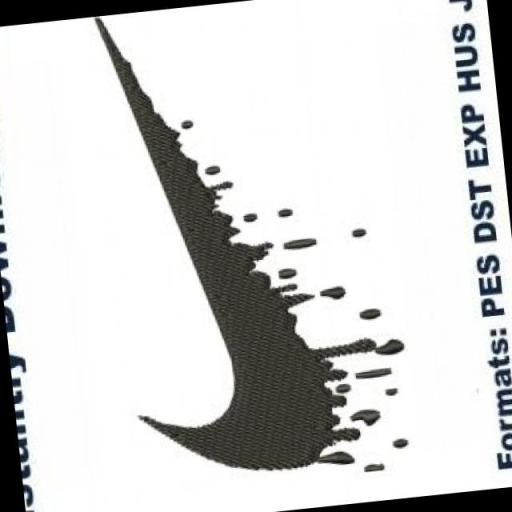Nike: (87, 0, 335, 485)
